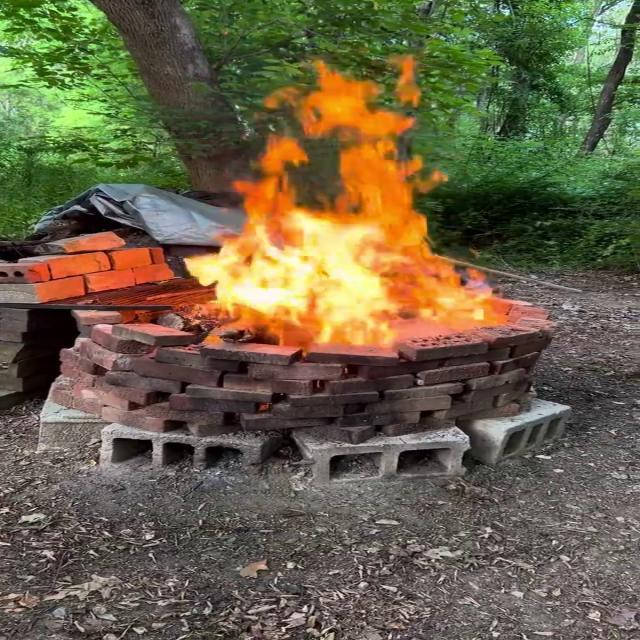Fire: (188, 55, 512, 351)
